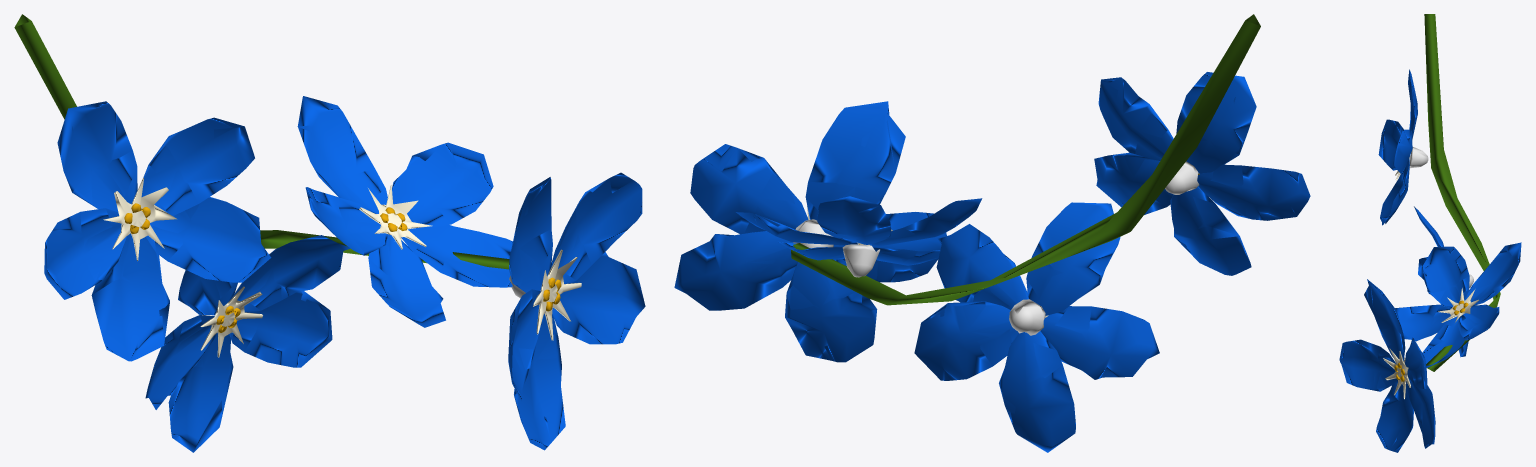
Rendered from flor_azul.glb.
3 views of the same model, side by side, from view 1: azimuth 30°, elevation 25°; view 2: azimuth 150°, elevation 25°; view 3: azimuth 270°, elevation 25° (orthographic). The views are drawn at different scales.
Visible parts, largest first — view 1: Plane.284, Cylinder.041, NurbsPath.190, Cube.114; view 2: Plane.284, NurbsPath.190, Cylinder.042; view 3: Plane.284, NurbsPath.190, Cylinder.041, Cylinder.042, Cube.114.
Part boxes in pixels (<box>): Plane.284: <box>44,96,645,452</box>; Cylinder.041: <box>103,178,581,357</box>; NurbsPath.190: <box>14,14,509,269</box>; Cube.114: <box>124,203,561,332</box>; Plane.284: <box>674,72,1310,452</box>; NurbsPath.190: <box>791,14,1260,305</box>; Cylinder.042: <box>793,161,1199,335</box>; Plane.284: <box>1339,69,1521,452</box>; NurbsPath.190: <box>1424,14,1500,371</box>; Cylinder.041: <box>1383,171,1479,399</box>; Cylinder.042: <box>1403,147,1473,363</box>; Cube.114: <box>1394,300,1468,381</box>.
Bounding box in the file's own units: 6.93 × 5.33 × 2.94.
